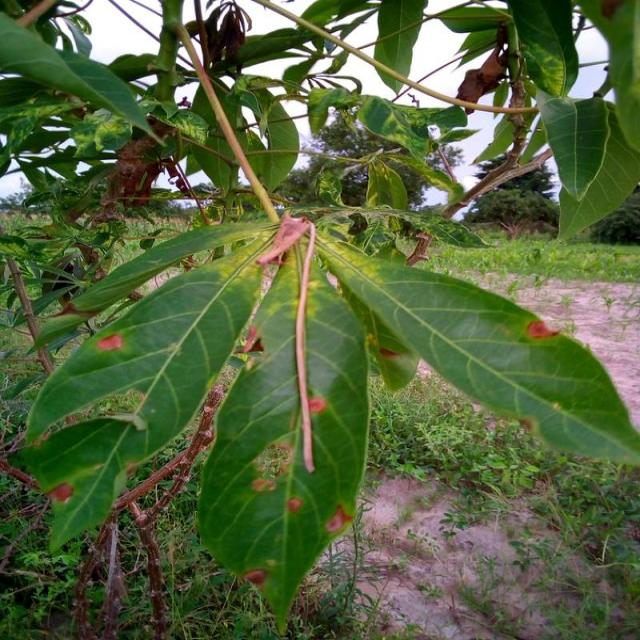cassava leaf: (21, 211, 638, 632), (21, 225, 278, 555), (196, 232, 370, 634)
